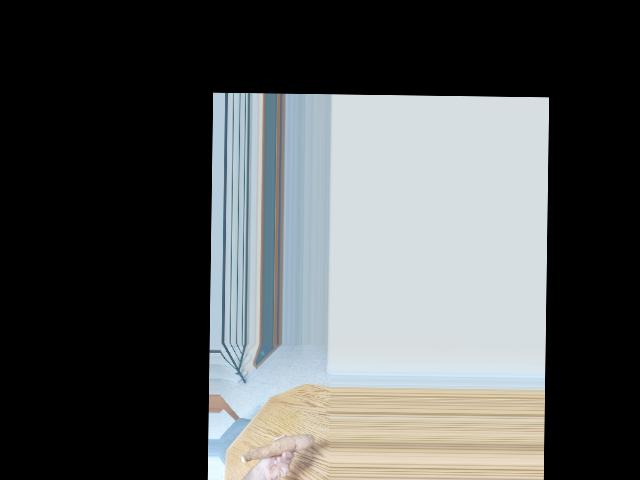sweet_potato: (241, 429, 311, 470)
